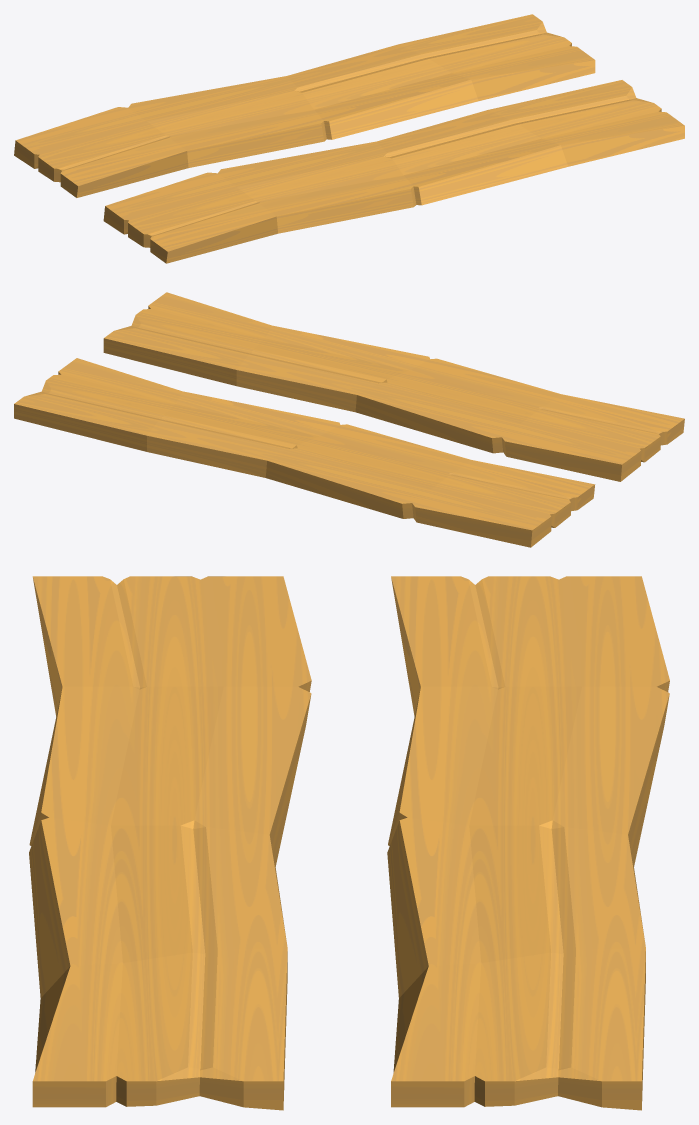
File: final_floating_pank.fbx
3 views of the same model, one above another, from view 1: azimuth 30°, elevation 25°; view 2: azimuth 150°, elevation 25°; view 3: azimuth 270°, elevation 25° (orthographic). The views are drawn at different scales.
Parts seen in each view (by area): view 1: Cube.001, Cube; view 2: Cube, Cube.001; view 3: Cube, Cube.001.
Part boxes in pixels (box(x1,y1,x2,y2)): Cube.001: box(14, 14, 595, 197); Cube: box(103, 80, 684, 263); Cube: box(103, 292, 684, 481); Cube.001: box(14, 358, 595, 547); Cube: box(29, 576, 311, 1110); Cube.001: box(387, 576, 669, 1110).
Size of the model in its own units: 2000 by 76.52 by 1073.
Materials: 2 (2 with a texture image).
